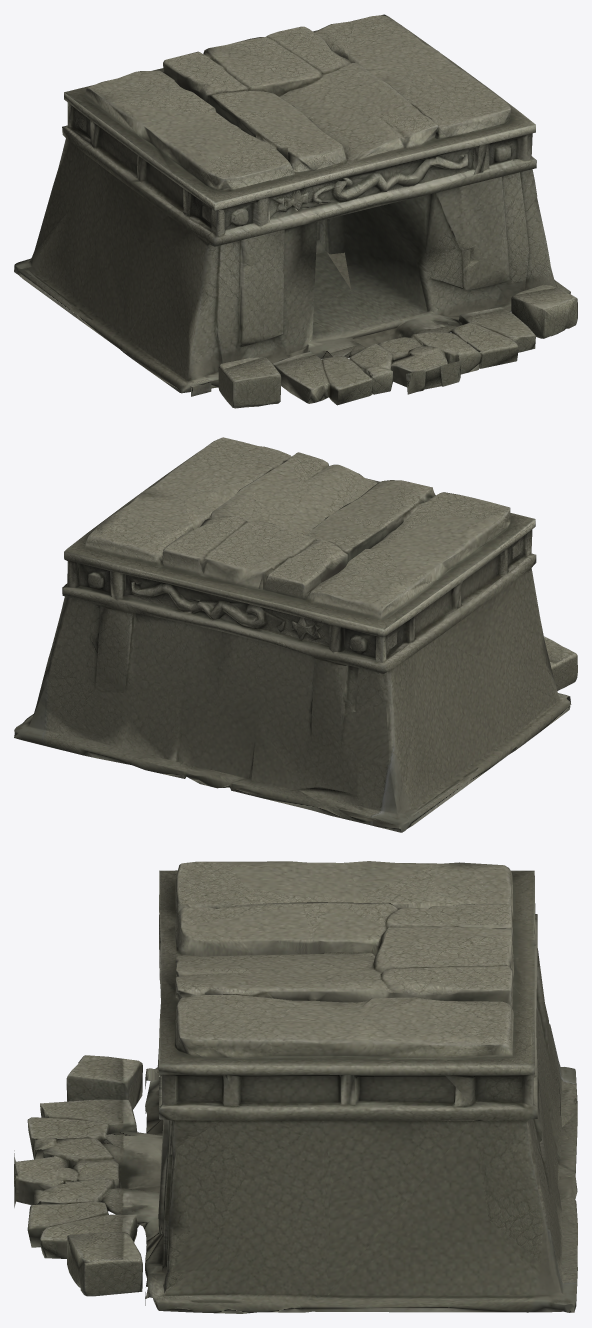
File: wall_block.glb
The picture shows the model from 3 angles, top to bottom: view 1: azimuth 30°, elevation 25°; view 2: azimuth 150°, elevation 25°; view 3: azimuth 270°, elevation 25°; orthographic projection. The views are drawn at different scales.
Size of the model in its own units: 1.89 by 0.9341 by 1.9.
1 material, 1 textured.
